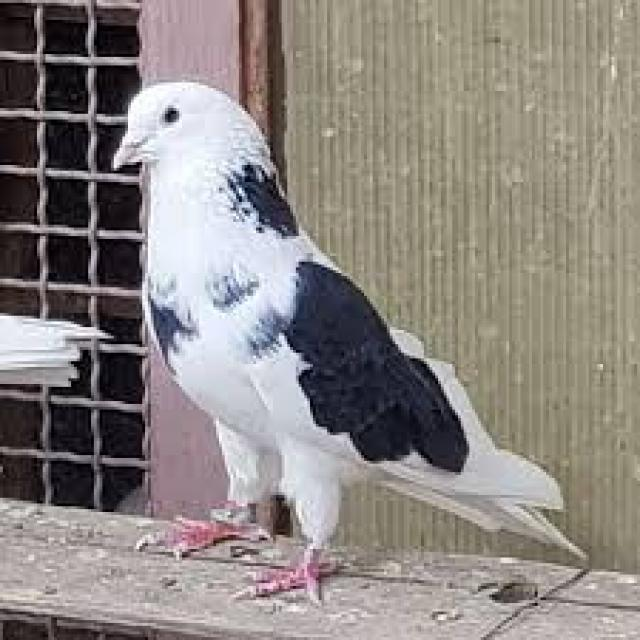bird: (105, 68, 585, 615)
